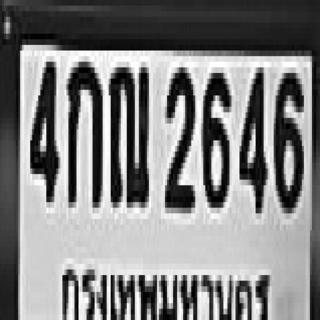A01: (66, 56, 101, 202)
A19: (107, 56, 147, 202)
N02: (163, 62, 193, 208)
N04: (237, 62, 264, 208), (28, 56, 56, 196)
N06: (272, 67, 302, 208), (201, 67, 229, 202)
P04: (58, 260, 274, 320)
